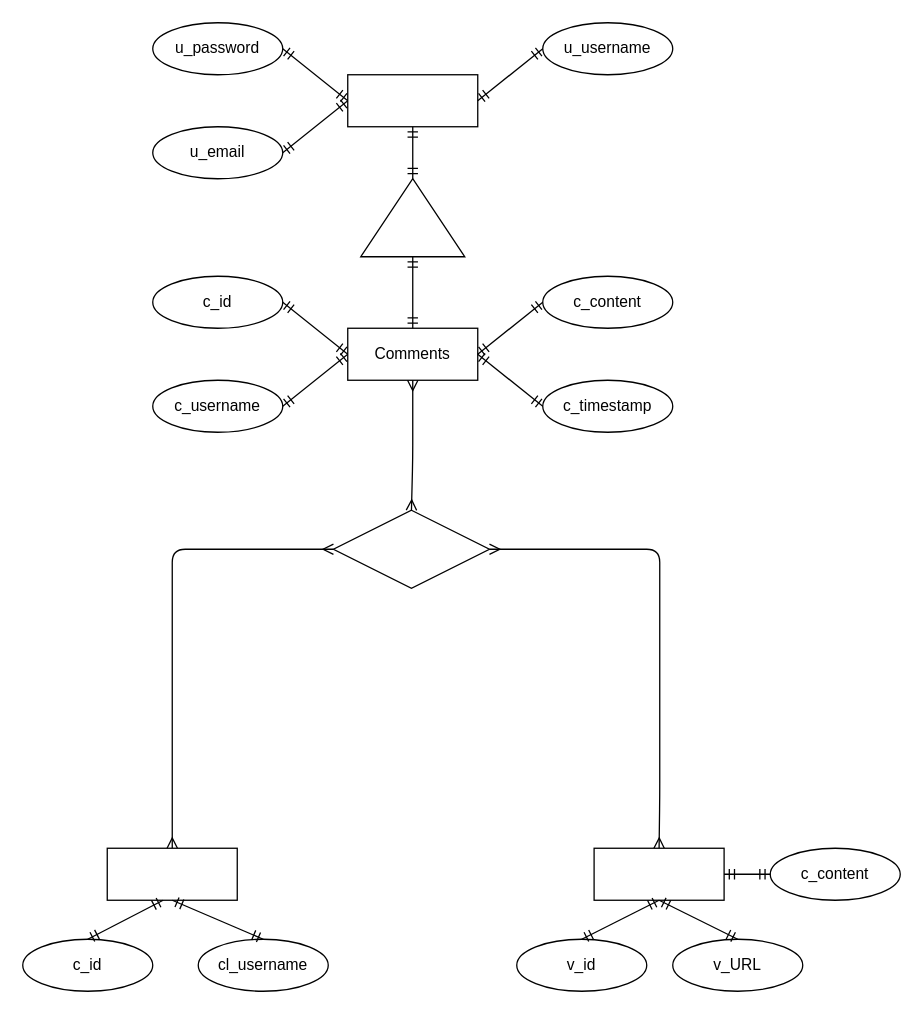
The diagram is 923 pixels wide and 1014 high, and some of its shapes have lost their labels. Each missing label, with the box of its shape:
Comment_Likes: (106, 847, 237, 900)
HAVE: (332, 509, 489, 588)
ISA: (359, 177, 465, 257)
User: (346, 73, 478, 127)
Video: (593, 847, 724, 900)
